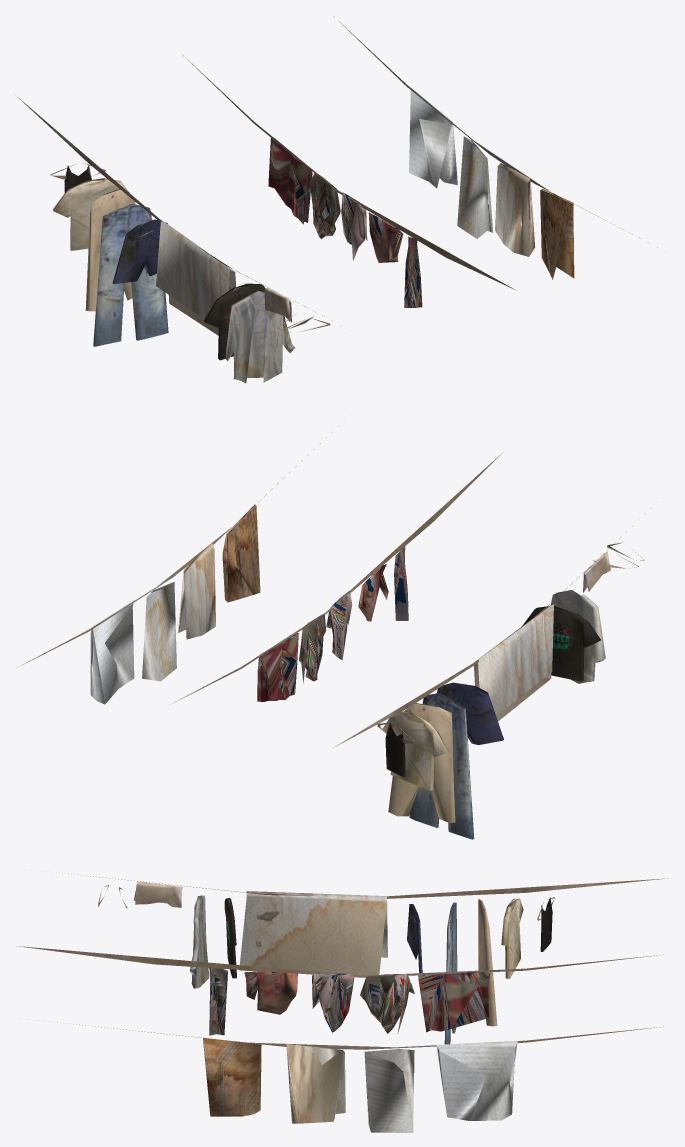
The model's file is day-phoi.glb.
3 renders of one model, top to bottom at view 1: azimuth 30°, elevation 25°; view 2: azimuth 150°, elevation 25°; view 3: azimuth 270°, elevation 25°, orthographic. The views are drawn at different scales.
Bounding box in the file's own units: 0.6262 × 0.2845 × 1.
5 materials, 5 textured.
